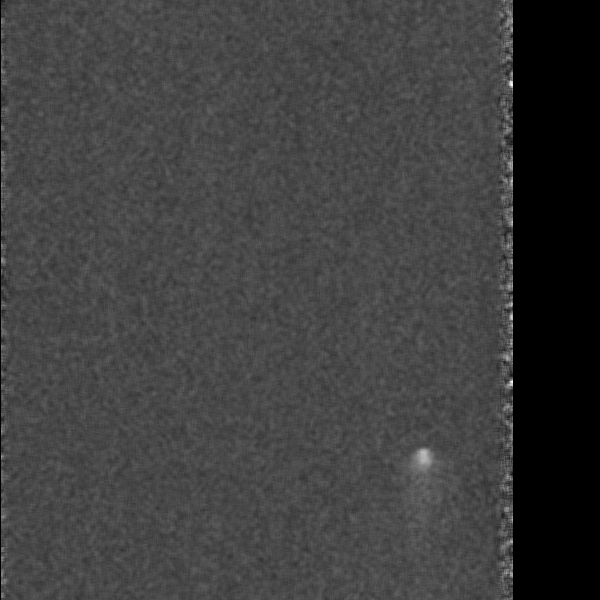spark: (407, 440, 435, 530)
